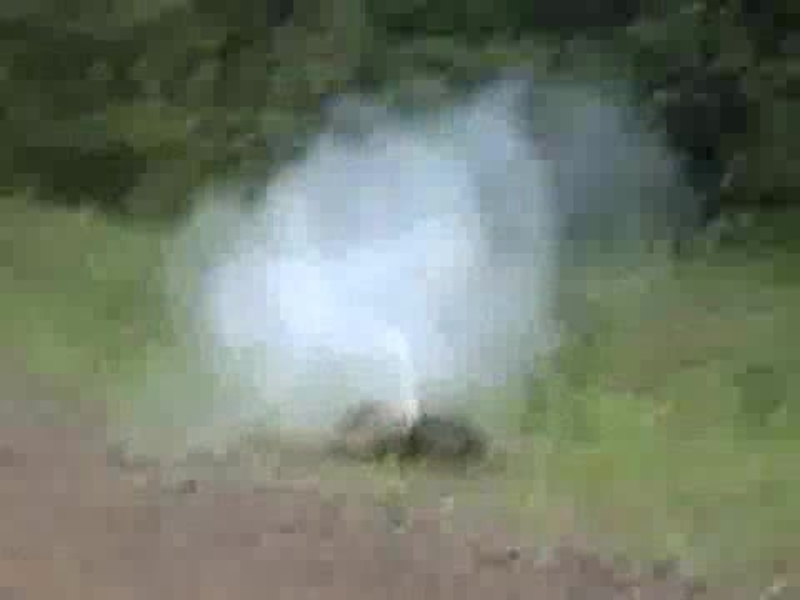smoke: (255, 149, 510, 410)
